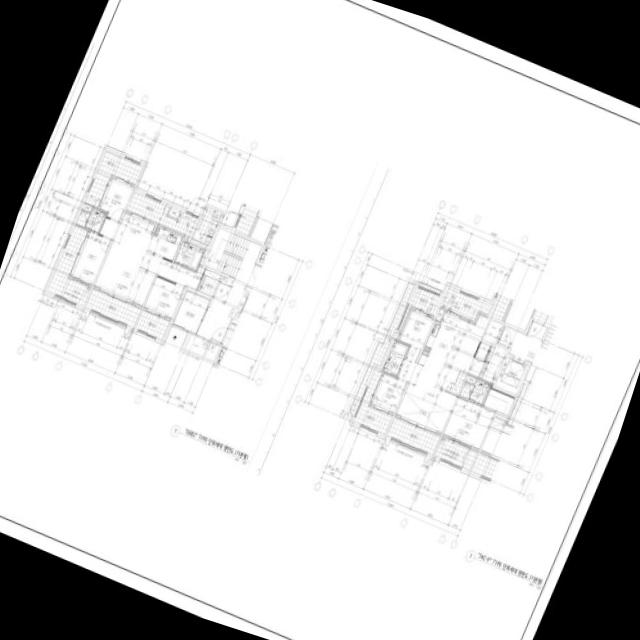background: (0, 0, 640, 640)
space_balconi: (350, 283, 413, 416), (126, 191, 199, 240), (47, 225, 91, 305), (84, 151, 142, 207), (354, 370, 392, 434), (395, 287, 441, 339), (387, 417, 439, 454), (440, 288, 490, 321), (192, 205, 224, 244), (434, 437, 469, 467), (135, 309, 170, 339)
space_bedroom: (443, 397, 494, 449), (71, 231, 110, 285), (399, 310, 433, 361), (144, 276, 184, 318), (99, 178, 133, 221), (371, 374, 406, 413)
space_dressroom: (483, 389, 514, 415)
space_elevator: (494, 356, 528, 394), (236, 290, 251, 321)
space_elevator_hall: (196, 275, 253, 345), (498, 321, 546, 363)
space_front: (171, 288, 210, 334), (478, 345, 507, 383), (197, 269, 220, 296)
space_kitchen: (417, 312, 489, 371), (115, 212, 182, 260)
space_living_room: (85, 217, 204, 327), (396, 346, 484, 432), (475, 342, 490, 360)
space_other: (184, 334, 209, 356), (483, 320, 502, 344), (462, 449, 477, 470), (204, 342, 219, 361), (199, 249, 208, 265), (168, 207, 180, 218), (435, 308, 444, 321), (466, 375, 476, 384), (82, 203, 92, 212), (204, 237, 211, 245)
space_staircase: (204, 228, 262, 285), (445, 370, 466, 395)
space_toilet: (381, 340, 409, 376), (174, 240, 205, 271), (75, 207, 106, 233), (469, 379, 490, 404), (460, 382, 474, 398)
